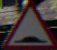Speed Breaker ahead: (3, 4, 51, 44)
